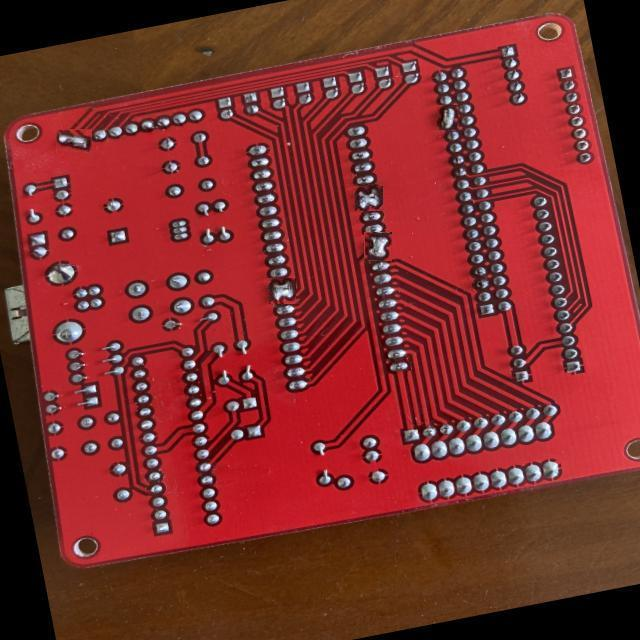damged: (56, 129, 92, 154), (364, 232, 392, 261), (356, 184, 383, 212), (269, 278, 296, 304), (438, 105, 460, 132)
